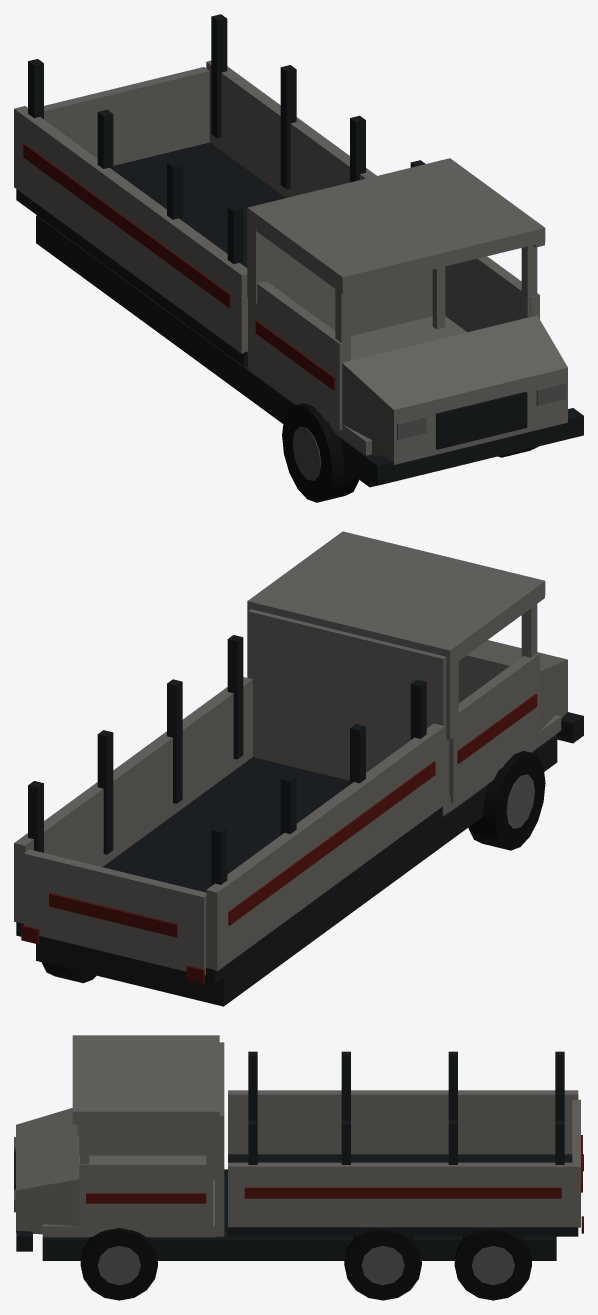
3 renders of one model, top to bottom at view 1: azimuth 30°, elevation 25°; view 2: azimuth 150°, elevation 25°; view 3: azimuth 270°, elevation 25°, orthographic. The views are drawn at different scales.
Visible parts, largest first — view 1: cargo-transport-painted, cargo-ramp-painted, wheel--1-2.7-fleet-rubber, wheel--1-2.7-fleet-edge; view 2: cargo-transport-painted, cargo-ramp-painted, wheel--1-2.7-fleet-rubber, wheel--1-2.7-fleet-edge; view 3: cargo-transport-painted, wheel-1--1.25-fleet-rubber, wheel-1--2.9-fleet-rubber, wheel-1-2.7-fleet-rubber, wheel-1--1.25-fleet-edge, wheel-1--2.9-fleet-edge, wheel-1-2.7-fleet-edge, cargo-ramp-painted.
Part boxes in pixels (x1,y1,x2,y2): cargo-transport-painted: (14, 14, 583, 487); cargo-ramp-painted: (44, 67, 209, 165); wheel--1-2.7-fleet-rubber: (282, 403, 358, 502); wheel--1-2.7-fleet-edge: (292, 426, 321, 480); cargo-transport-painted: (14, 531, 583, 1006); cargo-ramp-painted: (24, 849, 206, 975); wheel--1-2.7-fleet-rubber: (468, 751, 545, 850); wheel--1-2.7-fleet-edge: (506, 774, 534, 828); cargo-transport-painted: (14, 1035, 583, 1260); wheel-1--1.25-fleet-rubber: (344, 1227, 421, 1300); wheel-1--2.9-fleet-rubber: (454, 1227, 531, 1300); wheel-1-2.7-fleet-rubber: (80, 1228, 157, 1300); wheel-1--1.25-fleet-edge: (361, 1246, 404, 1285); wheel-1--2.9-fleet-edge: (471, 1246, 514, 1285); wheel-1-2.7-fleet-edge: (97, 1246, 140, 1285); cargo-ramp-painted: (572, 1099, 582, 1227).
Bounding box in the file's own units: 14.97 × 16.2 × 44.74.
